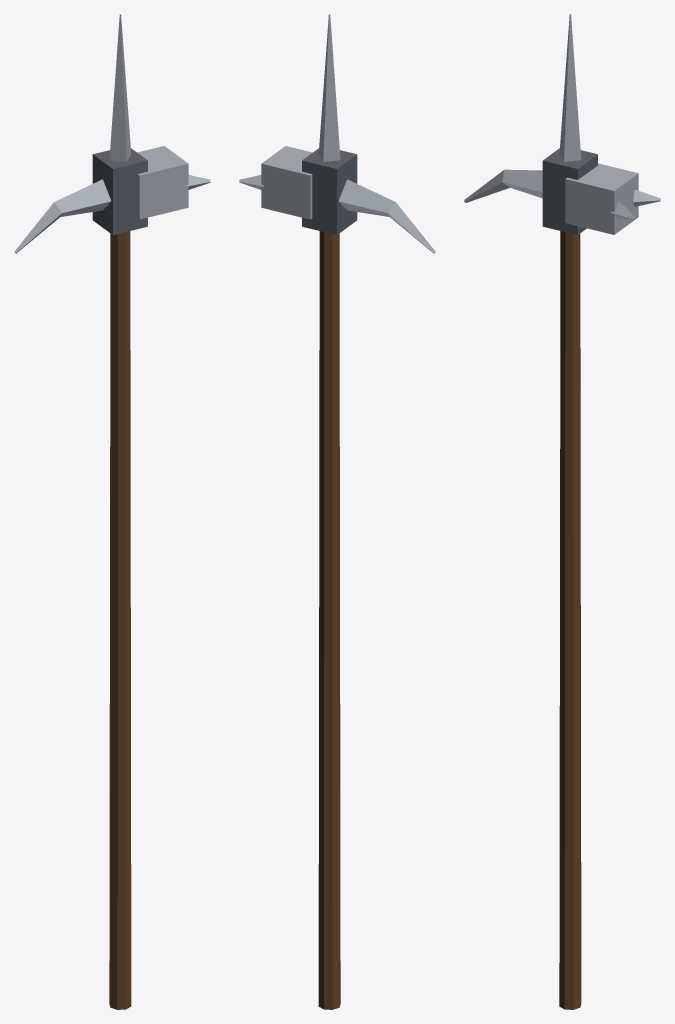
File: g-warhammer-lucerne.glb
3 renders of one model, left to right at view 1: azimuth 30°, elevation 25°; view 2: azimuth 150°, elevation 25°; view 3: azimuth 330°, elevation 25°, orthographic.
Parts seen in each view (by area): view 1: g-warhammer-lucerne; view 2: g-warhammer-lucerne; view 3: g-warhammer-lucerne.
Boxes of the visible parts, x1,y1,x2,y2 form: g-warhammer-lucerne: [14, 14, 210, 1009]; g-warhammer-lucerne: [239, 14, 435, 1009]; g-warhammer-lucerne: [464, 14, 660, 1009].
Size of the model in its own units: 0.2621 by 1.35 by 0.0677.
